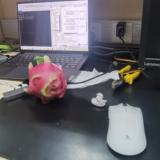pitaya: (24, 55, 67, 103)
